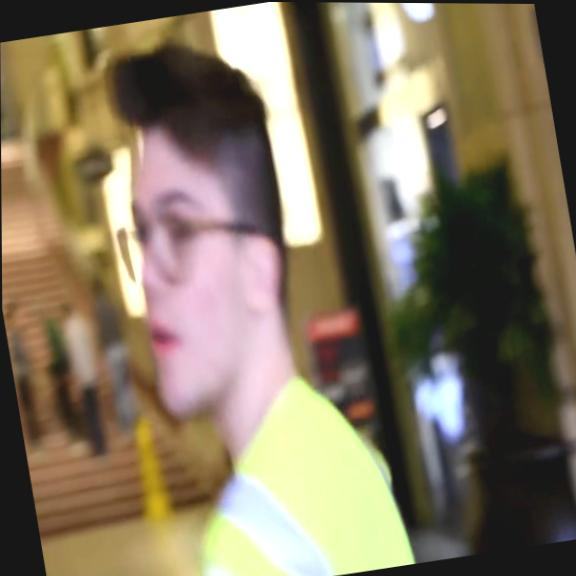safety_vest: (154, 361, 417, 576)
